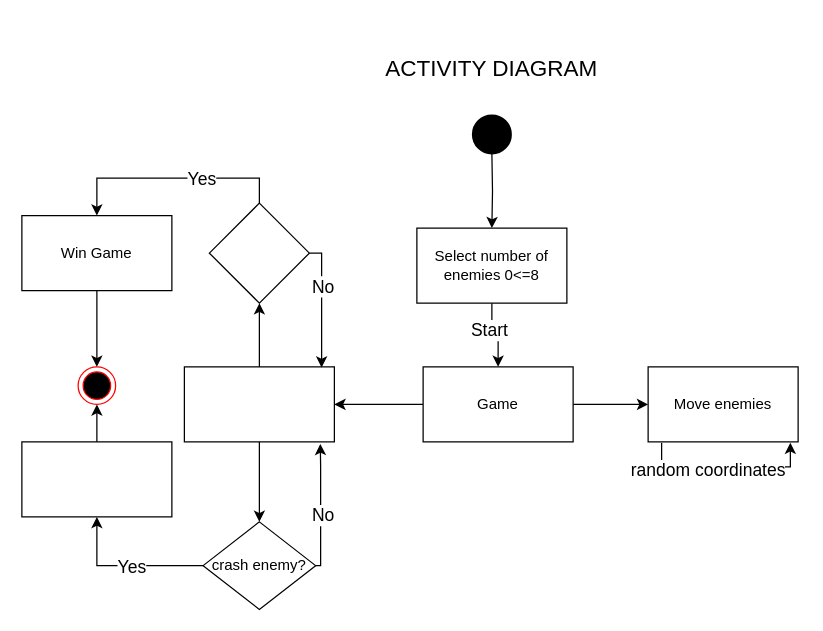
Some shapes in this 823 by 631 pixel diagram are drawn without their labels. Here are the shapes that lost their labels. From the top down, the centre of each, then its label:
At pixel 258 252: "Eat all dots?".
At pixel 258 404: "Move Pacman".
At pixel 96 479: "Game Over".
